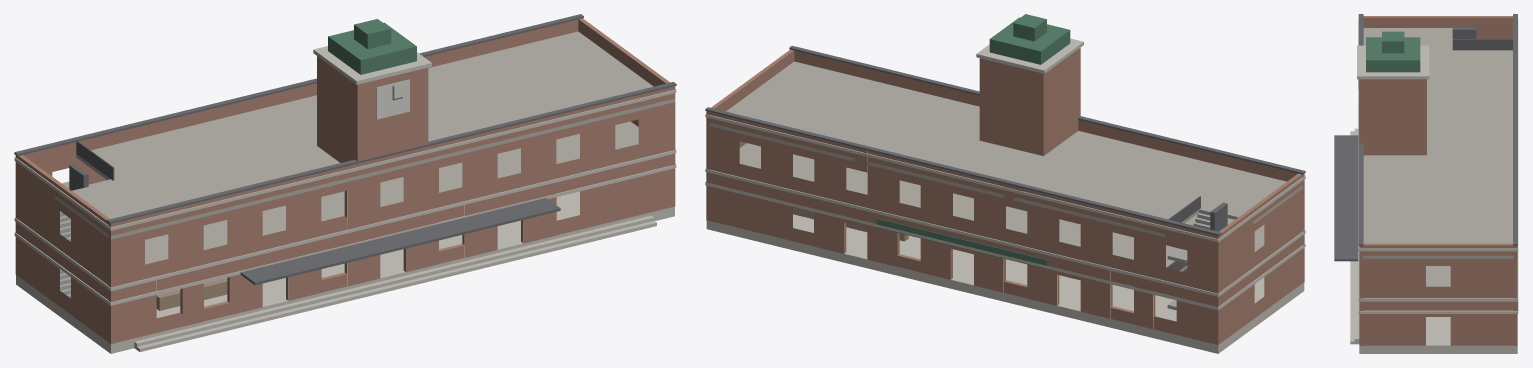
Rendered from rail-station.reveal-v1.lod1.glb.
3 renders of one model, left to right at view 1: azimuth 30°, elevation 25°; view 2: azimuth 150°, elevation 25°; view 3: azimuth 270°, elevation 25°, orthographic. The views are drawn at different scales.
Visible parts, largest first — view 1: rail-station; view 2: rail-station; view 3: rail-station.
Part boxes in pixels (box(x1,y1,x2,y2)): rail-station: box(14, 14, 676, 353); rail-station: box(705, 14, 1305, 353); rail-station: box(1334, 14, 1518, 353).
Size of the model in its own units: 48.2 by 19.8 by 16.3.
